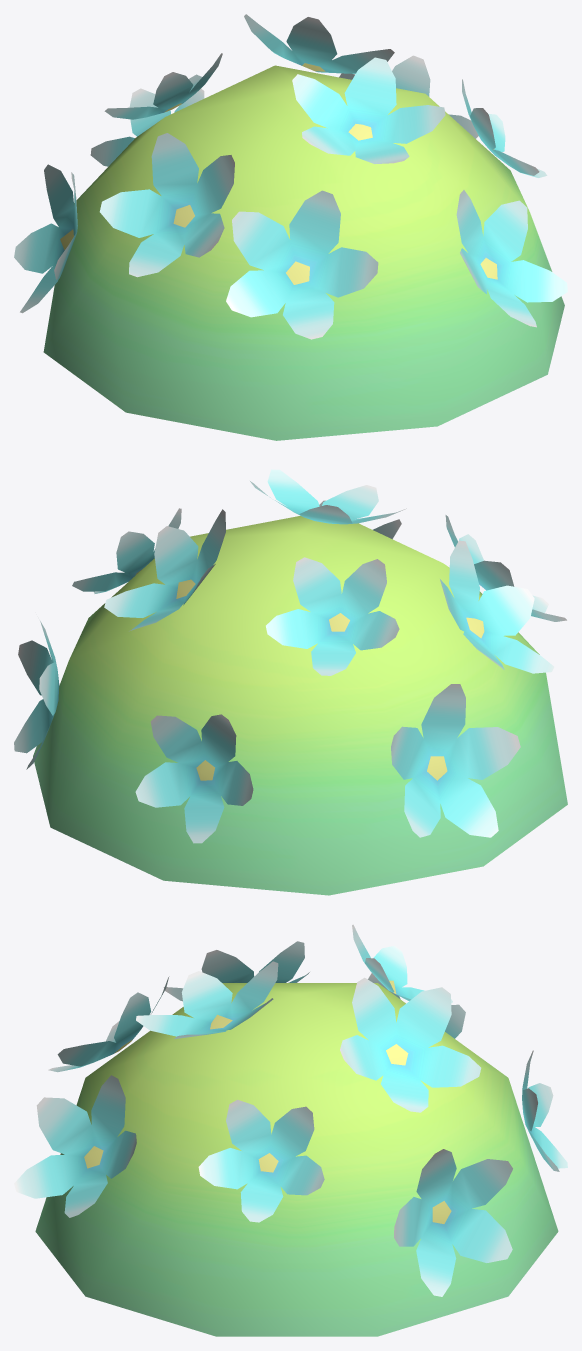
The model's file is Flower.017_Base_Material_0.fbx.
3 renders of one model, top to bottom at view 1: azimuth 30°, elevation 25°; view 2: azimuth 150°, elevation 25°; view 3: azimuth 270°, elevation 25°, orthographic. The views are drawn at different scales.
Parts seen in each view (by area): view 1: Flower.017_Base_Material_0_export; view 2: Flower.017_Base_Material_0_export; view 3: Flower.017_Base_Material_0_export.
Boxes of the visible parts, left/top/right/bottom form: Flower.017_Base_Material_0_export: left=14, top=14, right=567, bottom=440; Flower.017_Base_Material_0_export: left=14, top=469, right=567, bottom=895; Flower.017_Base_Material_0_export: left=14, top=924, right=567, bottom=1336.
Size of the model in its own units: 2.01 by 1.15 by 2.12.
